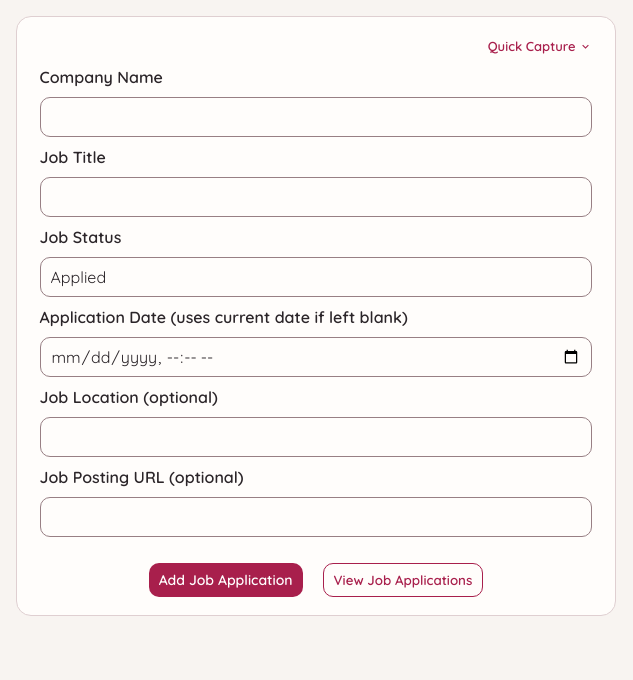
User add application flow › clears only the edited field error and preserves entered values after client validation fails
Click the button "Add Job Application". click: (226, 580)
box: top-left (149, 563), bottom-right (303, 597)
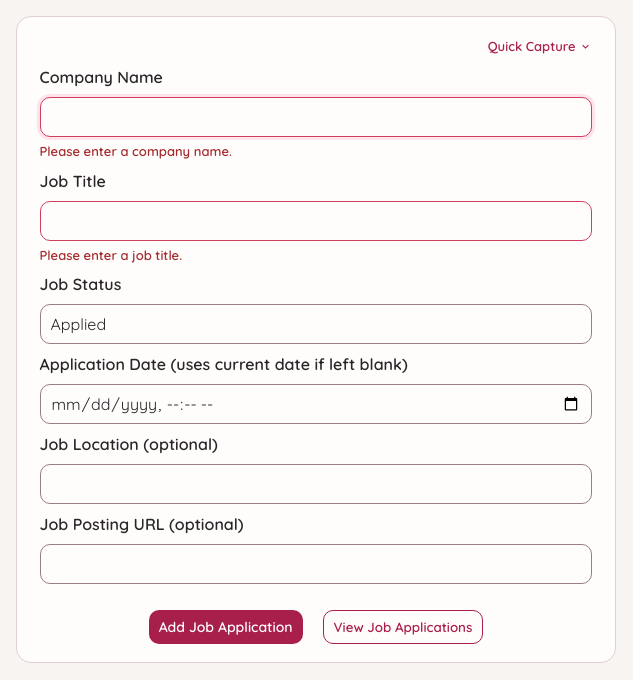
Expected: the text "Please enter a company name." is shown, top-left (40, 143), bottom-right (232, 159)
Type "ABC Pte Ltd" into the field labelled "Company Name". click: (316, 117)
box: top-left (40, 97), bottom-right (592, 137)
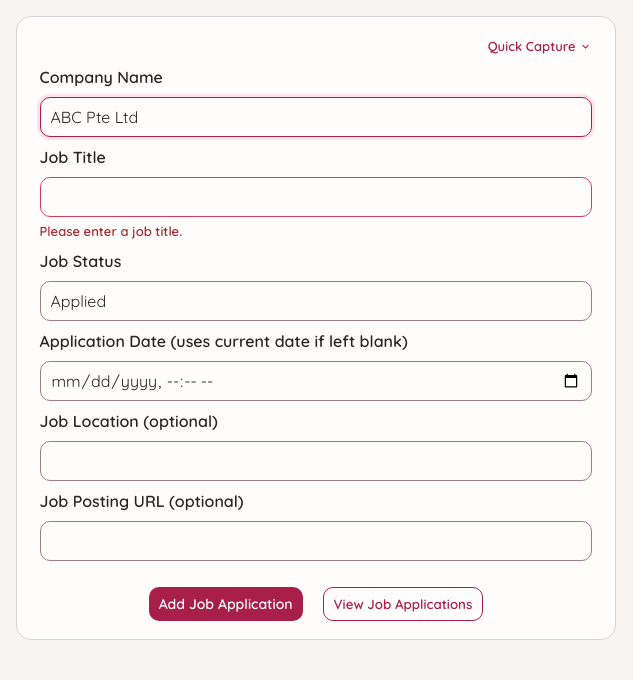
Expected: the text "Please enter a job title." is shown, top-left (40, 223), bottom-right (182, 239)
Expected: the text "Please enter a company name." is gone
